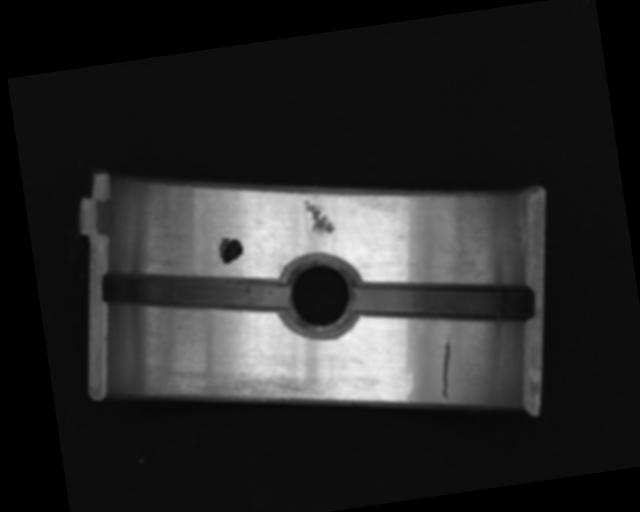blot: (216, 233, 245, 265)
bruise: (302, 195, 335, 237)
gap: (100, 248, 289, 336), (350, 261, 534, 345)
hole: (274, 251, 367, 342)
nick: (433, 333, 459, 403)
scratch: (158, 348, 333, 424)
